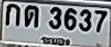letters: (4, 3, 21, 28), (23, 4, 40, 29), (63, 7, 78, 33), (93, 9, 108, 34), (79, 8, 93, 34), (48, 7, 62, 31)
province: (40, 34, 71, 47)
